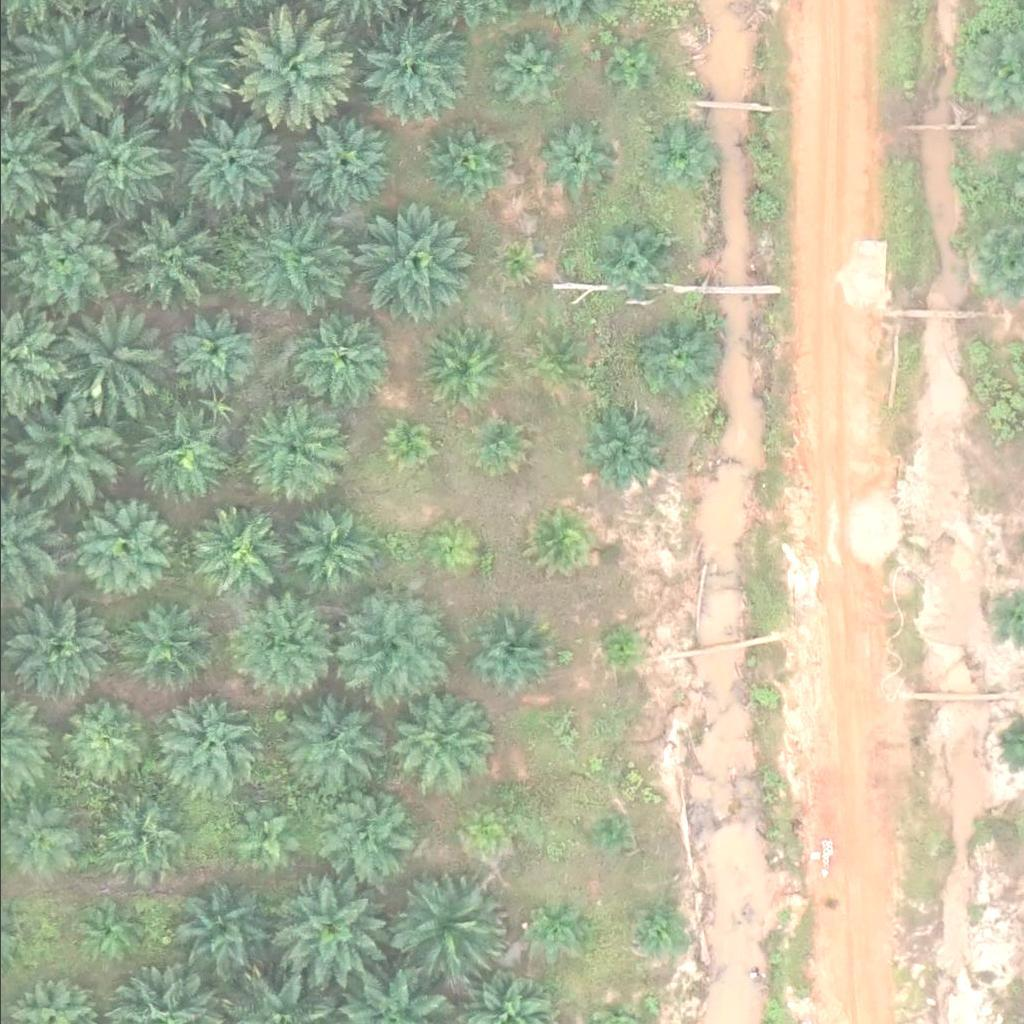Kelapa_Sawit: (360, 207, 474, 320), (55, 98, 169, 211), (235, 8, 349, 121), (393, 866, 506, 979), (261, 871, 374, 984), (7, 389, 120, 502), (337, 587, 451, 699), (6, 199, 119, 311), (227, 207, 340, 319), (13, 6, 126, 118), (121, 11, 234, 123), (353, 17, 466, 129), (166, 877, 267, 977), (382, 694, 483, 794), (8, 595, 109, 695), (225, 592, 326, 692), (76, 498, 177, 598), (56, 307, 157, 407), (292, 115, 393, 215), (88, 786, 188, 886), (313, 788, 413, 888), (276, 695, 376, 795), (156, 688, 256, 788), (188, 499, 288, 599), (131, 400, 231, 500), (239, 396, 339, 496), (291, 307, 391, 407), (123, 204, 223, 304), (178, 111, 278, 211), (466, 607, 554, 695), (119, 600, 207, 688), (285, 505, 373, 593), (589, 213, 677, 301), (166, 308, 254, 396), (422, 119, 510, 207), (57, 697, 145, 784), (633, 314, 721, 401), (418, 323, 506, 410), (577, 410, 653, 485), (535, 119, 611, 194), (231, 800, 306, 875), (651, 121, 714, 184), (77, 900, 140, 963), (530, 510, 593, 573), (496, 42, 559, 104), (524, 333, 587, 395), (423, 520, 474, 570), (634, 903, 684, 953), (531, 898, 581, 948), (381, 422, 431, 472), (473, 417, 523, 467), (604, 44, 654, 94), (585, 812, 623, 850), (601, 626, 639, 663), (467, 802, 504, 839), (501, 241, 538, 278), (550, 715, 576, 740)
